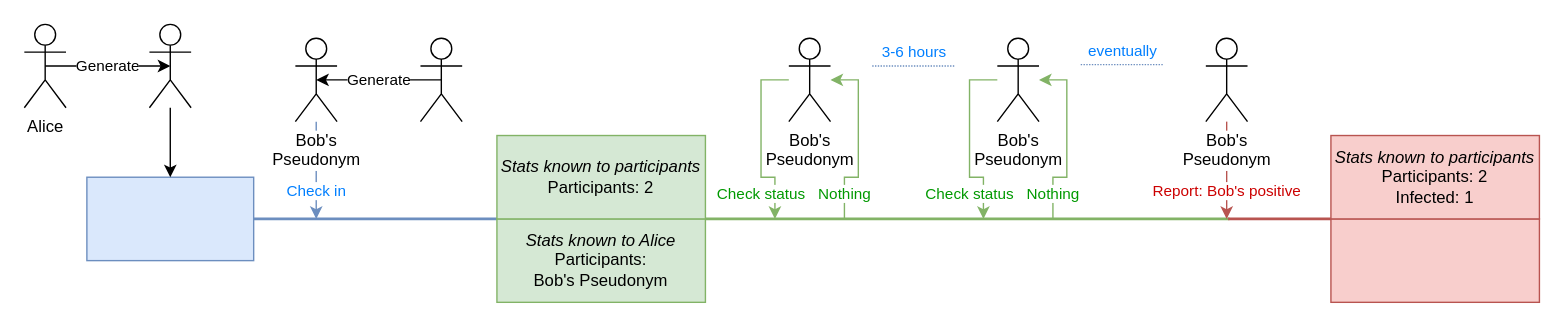
Some shapes in this 1564 by 327 pixel diagram are drawn without their labels. The centre of each missing label's shape, as x and y in pixels:
Alice's Pseudonym: [169,65]
Barbecue: [169,218]
Bob: [440,79]
Stats known to Alice Participants: Bob Infected: Bob: [1434,260]
